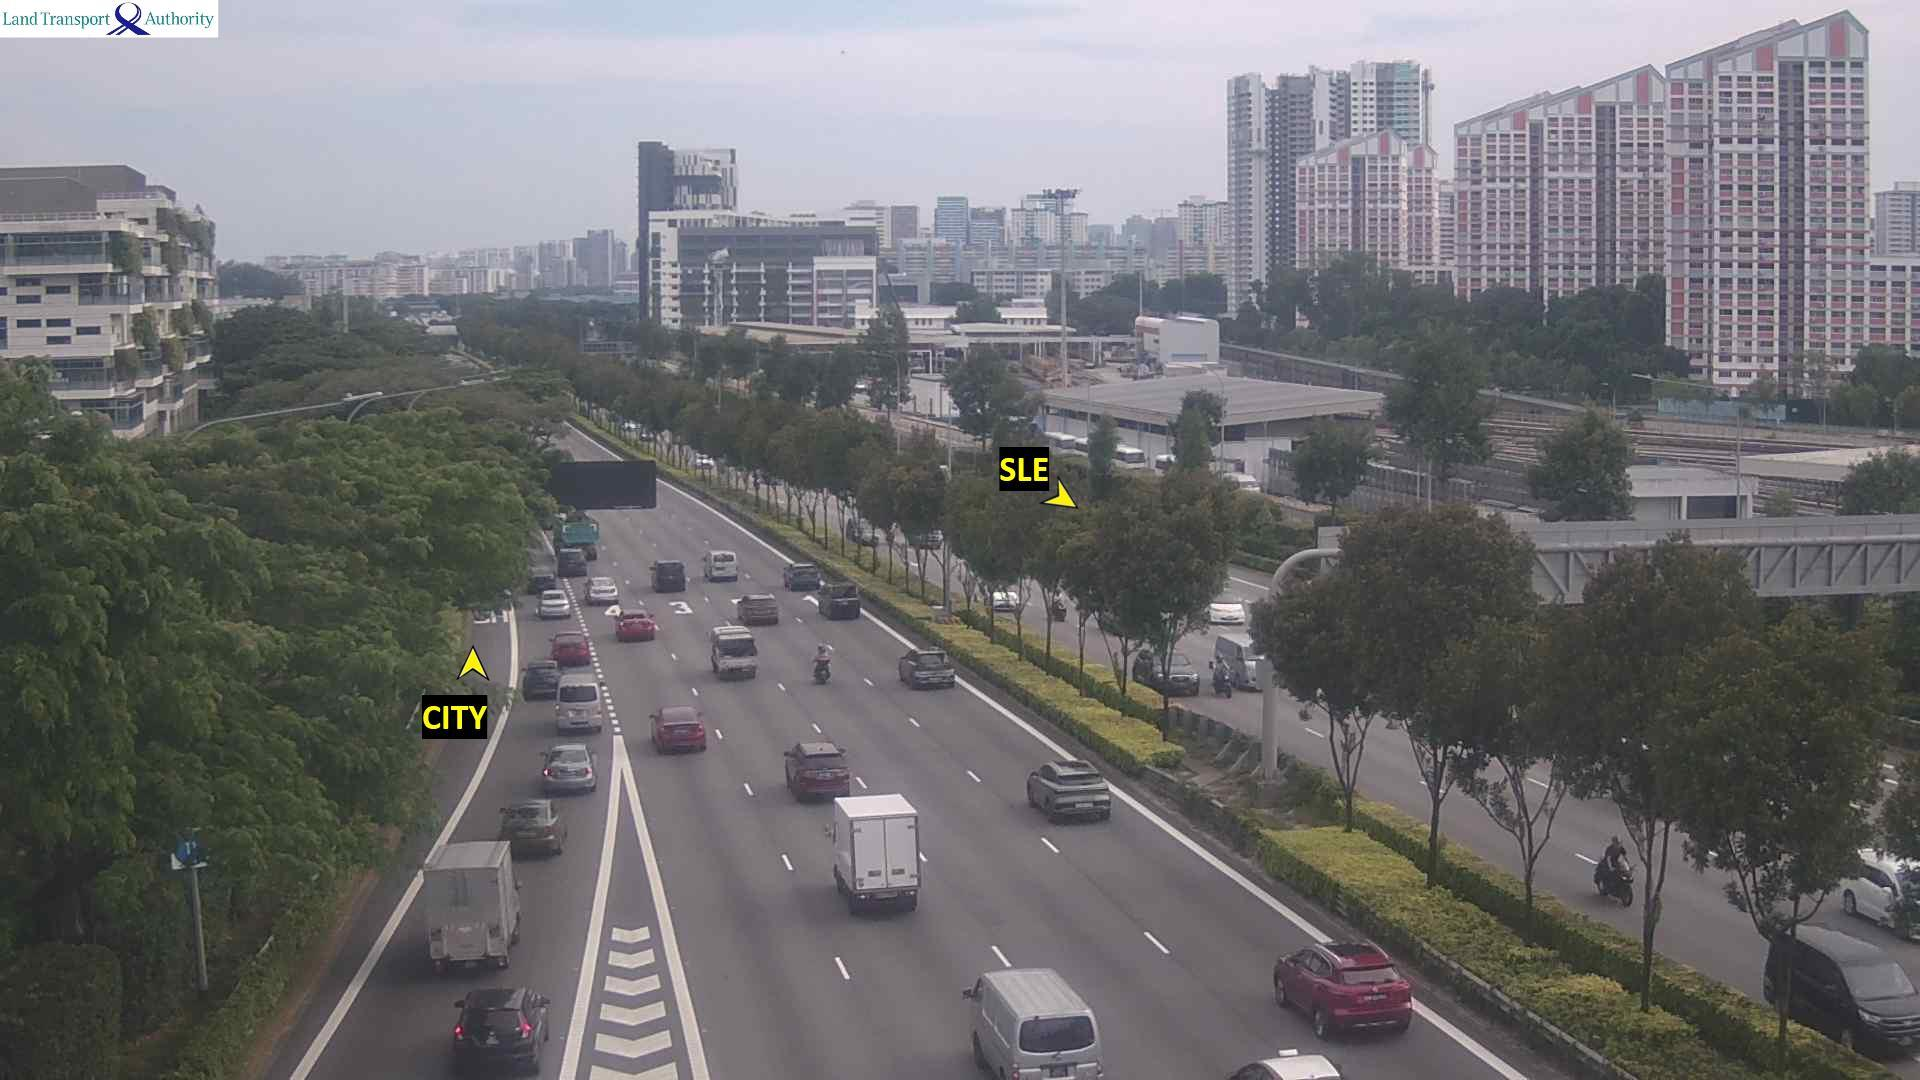cars: (1761, 922, 1918, 1056), (961, 966, 1105, 1079), (1272, 937, 1412, 1039), (450, 984, 550, 1074), (1839, 851, 1918, 939), (1025, 758, 1111, 822), (1212, 632, 1296, 696), (782, 740, 849, 801), (497, 797, 566, 856), (1227, 1047, 1342, 1078), (1131, 648, 1199, 696), (538, 742, 596, 794), (648, 704, 706, 754), (552, 677, 603, 733), (708, 623, 758, 679), (897, 647, 955, 689), (905, 507, 948, 550), (815, 580, 861, 619), (521, 657, 561, 699), (547, 630, 592, 666), (731, 592, 779, 625), (613, 607, 658, 641), (844, 514, 884, 552), (648, 558, 686, 592), (780, 560, 822, 590), (702, 549, 737, 581), (536, 587, 572, 618), (1206, 598, 1245, 625), (583, 574, 618, 603), (555, 546, 587, 577), (988, 585, 1020, 611), (690, 448, 719, 471)
motorcycle: (1588, 851, 1635, 908), (1046, 583, 1072, 627), (1210, 655, 1234, 698), (811, 651, 831, 684)
trucks: (420, 838, 522, 973), (828, 792, 921, 913), (550, 506, 611, 563)
